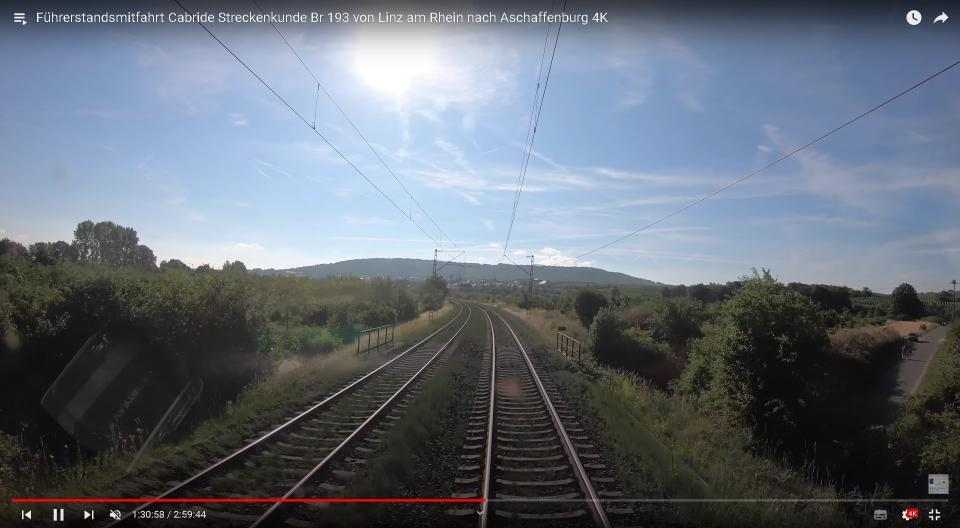Plant: (178, 348, 386, 448), (556, 369, 688, 495), (360, 355, 464, 495)
